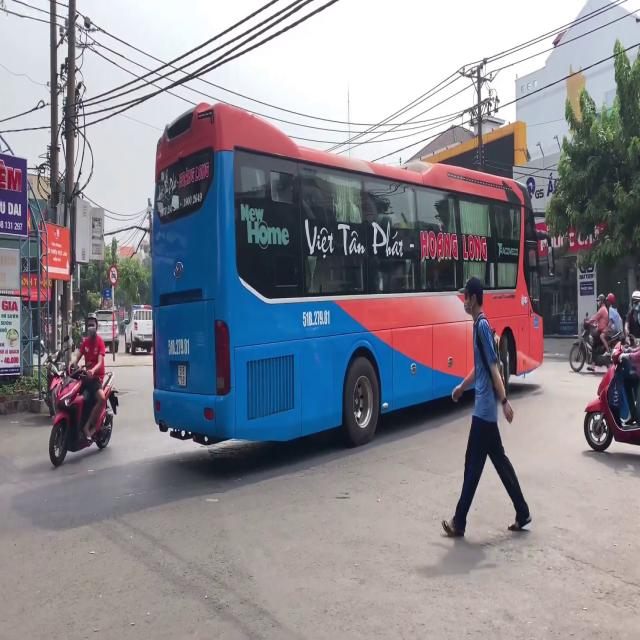bien_trang: (177, 364, 187, 388)
